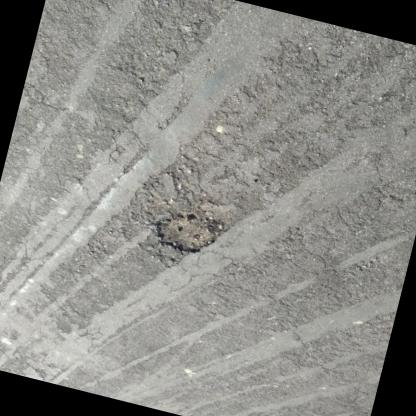pothole: (148, 206, 224, 262)
